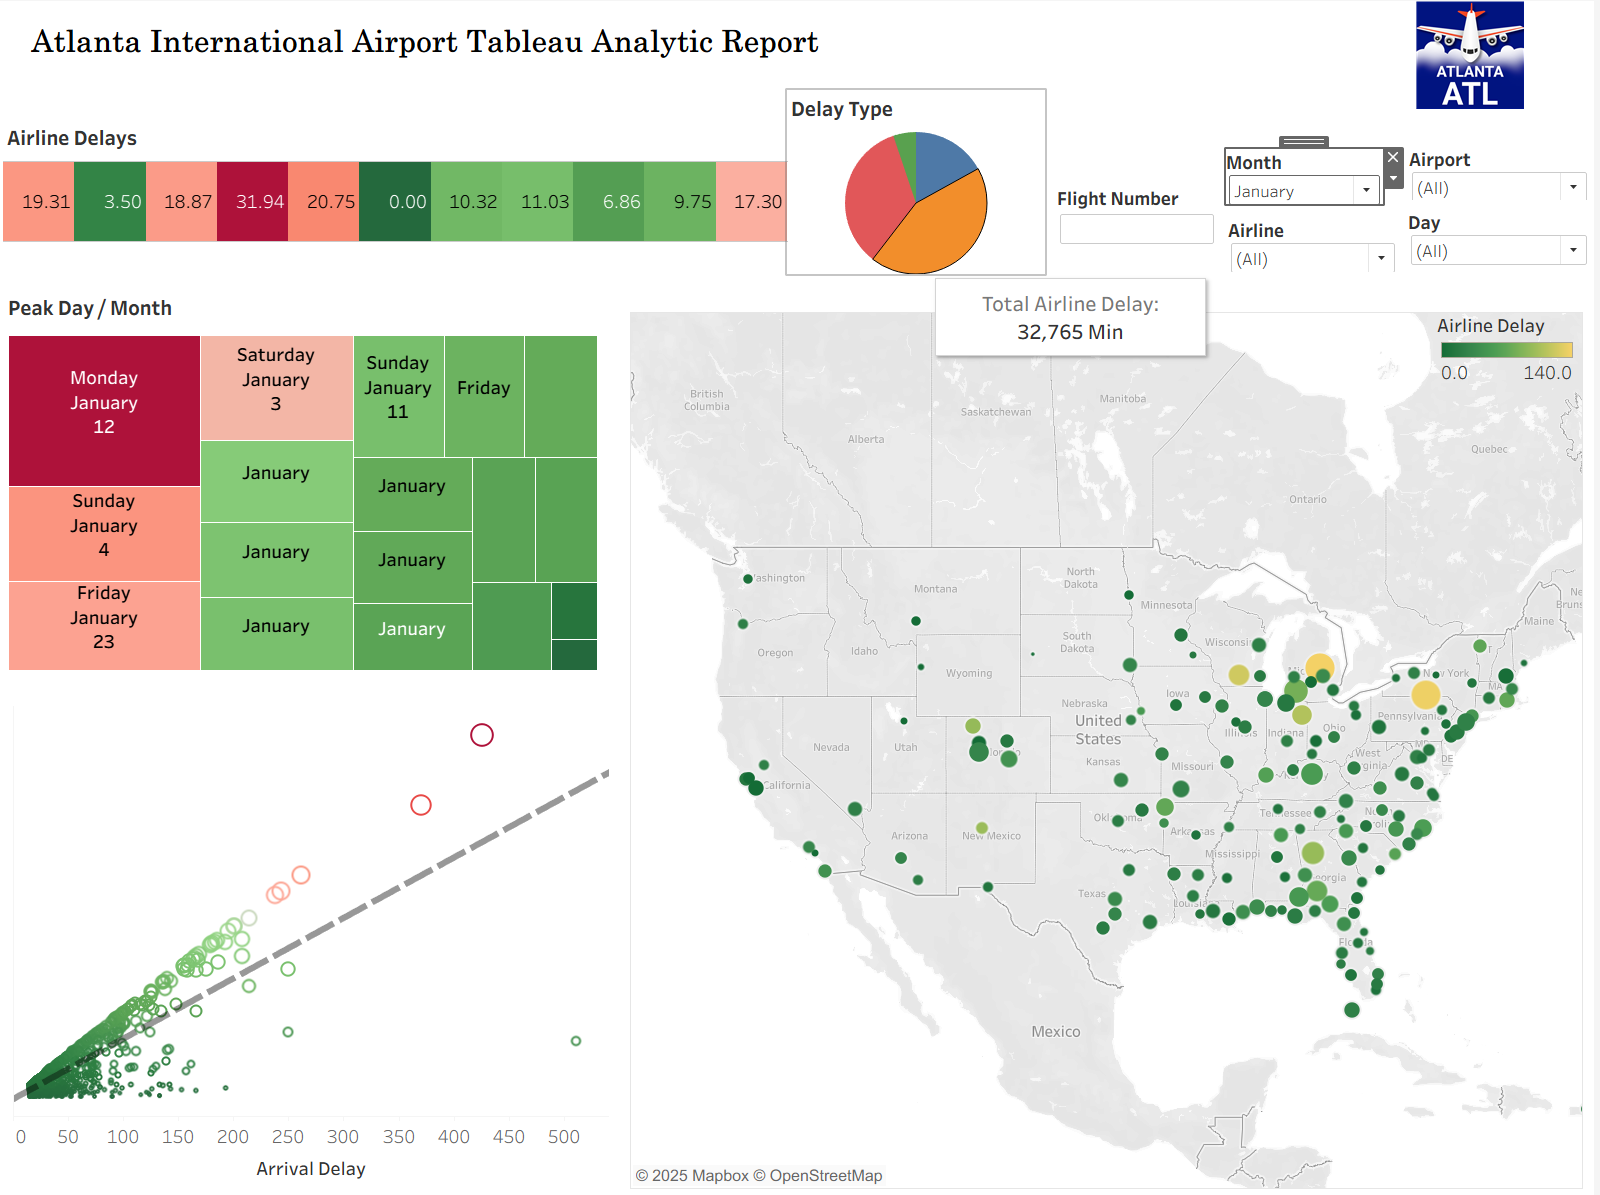

This screenshot's page, from the dashboard's own definition file:
{"tool":"tableau","page":{"name":"Customer Success Team Report","canvas":[1600,1200],"ordinal":0},"visuals":[{"type":"text","box":[0,0,1354,80]},{"type":"image","param":"Image/unnamed.png","box":[1357,0,238,108]},{"type":"worksheet","title":"Delay Types","mark":"Pie","box":[793,89,258,184]},{"type":"worksheet","title":"KPIs 2","mark":"Square","cols":["AIRLINE"],"box":[9,118,785,123]},{"type":"filter","title":"Airport/Airline Delay","param":"[federated.03b0nyq0hehnx91c2m3l712fa5kd].[none:DESTINATION_AIRPORT:nk]","box":[1415,145,181,54]},{"type":"filter","title":"Airport/Airline Delay","param":"[federated.03b0nyq0hehnx91c2m3l712fa5kd].[none:Calculation_3396277089959915521:n","box":[1232,148,157,55]},{"type":"filter","title":"Forecast Customer Success","param":"[federated.03b0nyq0hehnx91c2m3l712fa5kd].[none:FLIGHT_NUMBER:ok]","box":[1063,184,160,67]},{"type":"filter","title":"Airport/Airline Delay","param":"[federated.03b0nyq0hehnx91c2m3l712fa5kd].[none:Calculation_3396277089960042498:n","box":[1414,208,182,57]},{"type":"filter","title":"Airport/Airline Delay","param":"[federated.03b0nyq0hehnx91c2m3l712fa5kd].[none:AIRLINE:nk]","box":[1234,216,170,55]},{"type":"worksheet","title":"Delay Frequency Day and Time","mark":"Automatic","box":[0,278,617,406]},{"type":"worksheet","title":"Airport/Airline Delay","mark":"Automatic","box":[626,286,973,912]},{"type":"legend","title":"Airport/Airline Delay","param":"[federated.03b0nyq0hehnx91c2m3l712fa5kd].[avg:AIRLINE_DELAY:qk]","box":[1443,311,140,109]},{"type":"worksheet","title":"Forecast Customer Success","mark":"Automatic","rows":["Calculation_4678958560416292873"],"cols":["Calculation_4678958560427749386"],"box":[9,680,616,516]}]}

Visuals, with their boxes in screenshot pixels (x1, y1, x2, y2), scaled from the page's 1600x1200 canvas onto the 1600x1195 screenshot:
text: {"x1": 0, "y1": 0, "x2": 1354, "y2": 80}
image: {"x1": 1357, "y1": 0, "x2": 1595, "y2": 108}
"Delay Types" worksheet (Pie marks): {"x1": 793, "y1": 89, "x2": 1051, "y2": 272}
"KPIs 2" worksheet (Square marks): {"x1": 9, "y1": 118, "x2": 794, "y2": 240}
"Airport/Airline Delay" filter: {"x1": 1415, "y1": 144, "x2": 1596, "y2": 198}
"Airport/Airline Delay" filter: {"x1": 1232, "y1": 147, "x2": 1389, "y2": 202}
"Forecast Customer Success" filter: {"x1": 1063, "y1": 183, "x2": 1223, "y2": 250}
"Airport/Airline Delay" filter: {"x1": 1414, "y1": 207, "x2": 1596, "y2": 264}
"Airport/Airline Delay" filter: {"x1": 1234, "y1": 215, "x2": 1404, "y2": 270}
"Delay Frequency Day and Time" worksheet: {"x1": 0, "y1": 277, "x2": 617, "y2": 681}
"Airport/Airline Delay" worksheet: {"x1": 626, "y1": 285, "x2": 1599, "y2": 1193}
"Airport/Airline Delay" legend: {"x1": 1443, "y1": 310, "x2": 1583, "y2": 418}
"Forecast Customer Success" worksheet: {"x1": 9, "y1": 677, "x2": 625, "y2": 1191}
